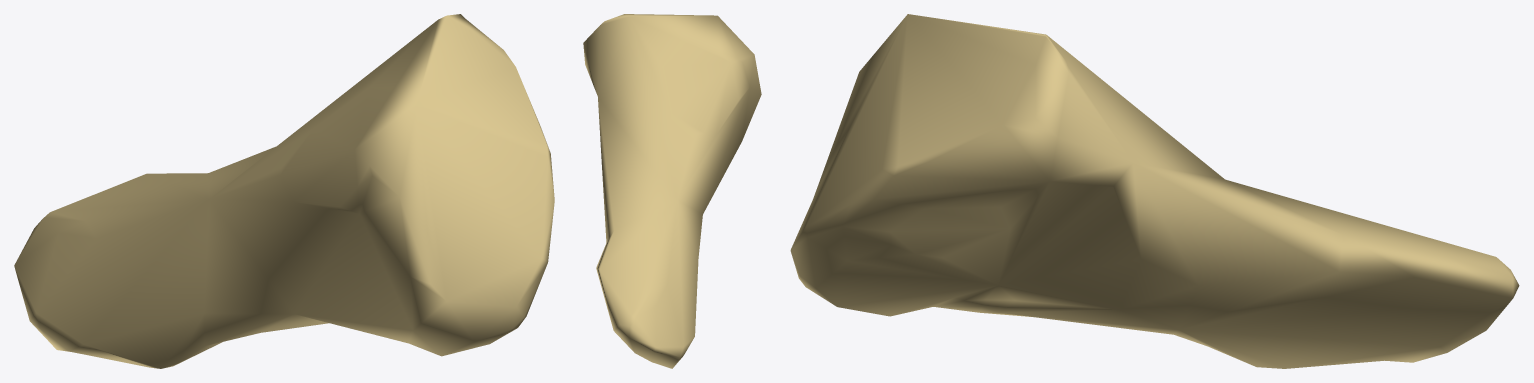
3 renders of one model, left to right at view 1: azimuth 30°, elevation 25°; view 2: azimuth 150°, elevation 25°; view 3: azimuth 270°, elevation 25°, orthographic. The views are drawn at different scales.
Visible parts, largest first — view 1: 右侧第一指远节指骨; view 2: 右侧第一指远节指骨; view 3: 右侧第一指远节指骨.
Part boxes in pixels (box(x1,y1,x2,y2)): 右侧第一指远节指骨: box(14, 14, 554, 368); 右侧第一指远节指骨: box(583, 14, 761, 368); 右侧第一指远节指骨: box(790, 14, 1519, 368).
Size of the model in its own units: 0.0206 by 0.0247 by 0.0356.
